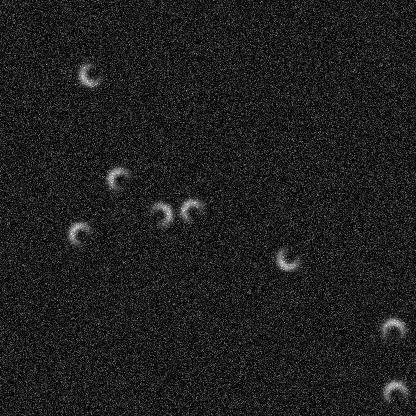Janus: (177, 196, 207, 226), (380, 378, 410, 408), (76, 58, 106, 88), (144, 199, 174, 229), (378, 316, 408, 346), (273, 242, 303, 272), (104, 164, 134, 194), (65, 219, 95, 249)
